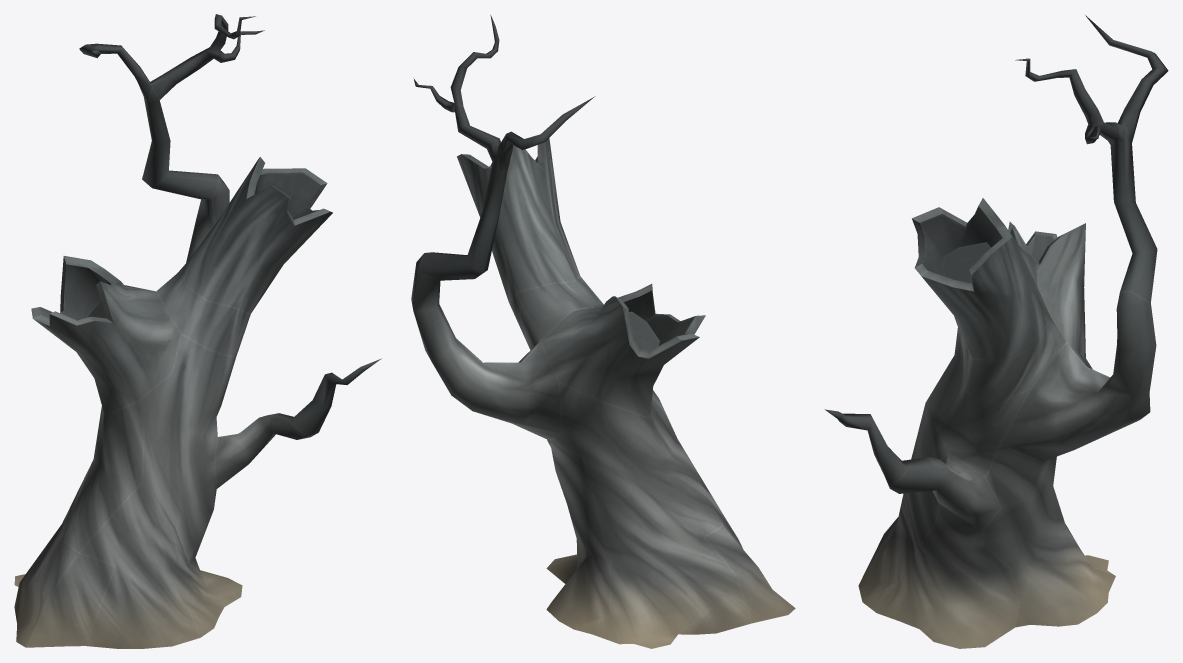
Rendered from Tree_5.FBX.
The picture shows the model from 3 angles, left to right: view 1: azimuth 30°, elevation 25°; view 2: azimuth 150°, elevation 25°; view 3: azimuth 270°, elevation 25°; orthographic projection. The views are drawn at different scales.
Visible parts, largest first — view 1: Tree_5; view 2: Tree_5; view 3: Tree_5.
Part boxes in pixels (x1,y1,x2,y2): Tree_5: [14, 14, 381, 648]; Tree_5: [411, 15, 795, 648]; Tree_5: [824, 15, 1168, 648].
Size of the model in its own units: 704 by 1146 by 586.
